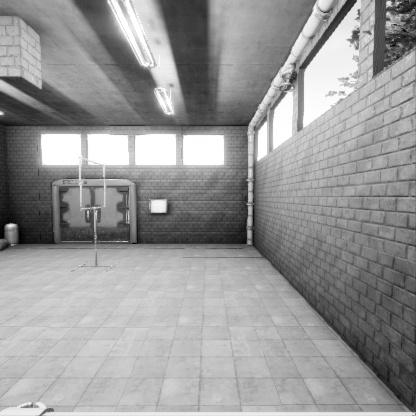gate: (78, 208, 106, 261)
